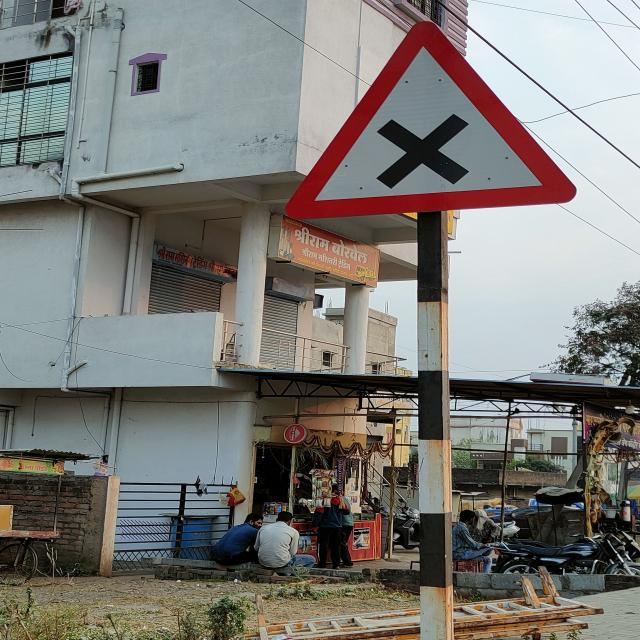cross_road: (281, 20, 575, 220)
